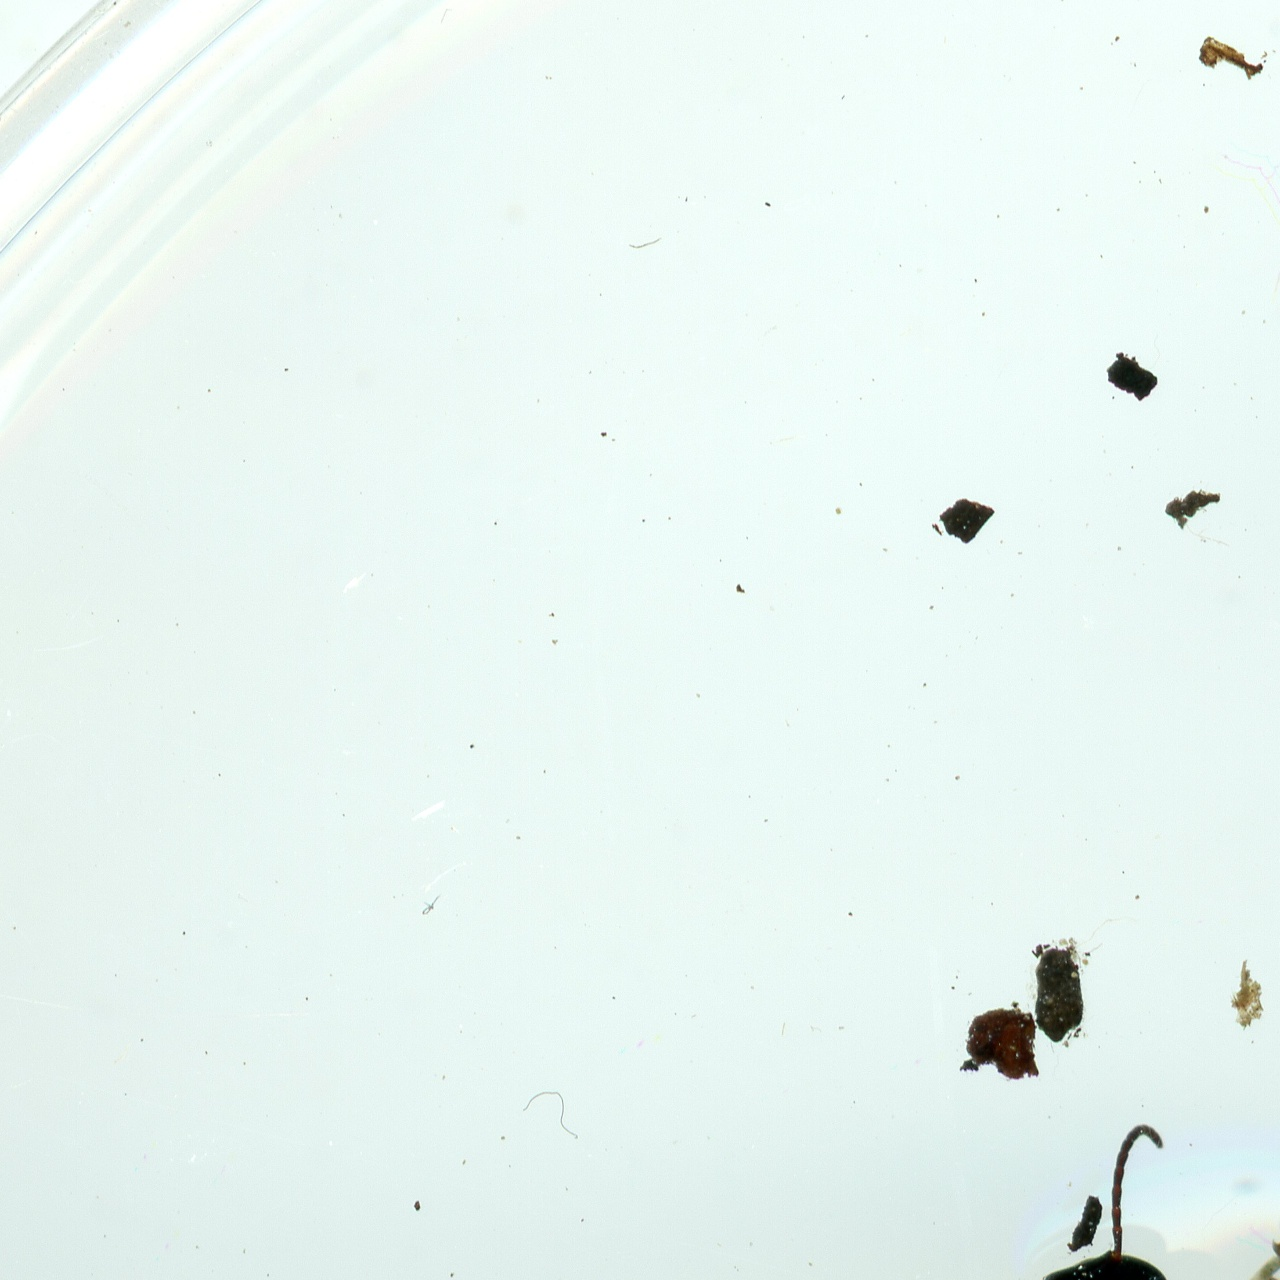arthropod: (917, 1083, 1280, 1280)
